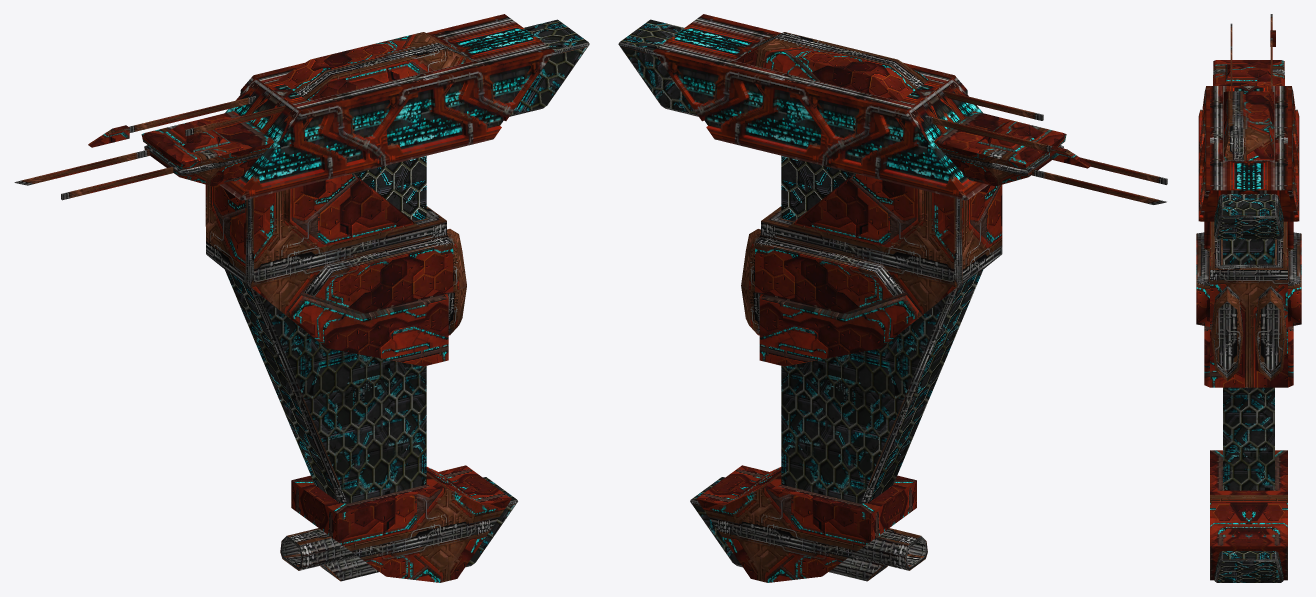
Rendered from pvc08a.obj.
3 views of the same model, side by side, from view 1: azimuth 30°, elevation 25°; view 2: azimuth 150°, elevation 25°; view 3: azimuth 270°, elevation 25° (orthographic). The views are drawn at different scales.
Visible parts, largest first — view 1: SHIP0.001, DETAIL0; view 2: SHIP0.001, DETAIL0; view 3: SHIP0.001, DETAIL0.
Part boxes in pixels (box(x1,y1,x2,y2)): SHIP0.001: box(14, 16, 589, 582); DETAIL0: box(240, 14, 554, 366); SHIP0.001: box(618, 16, 1167, 582); DETAIL0: box(653, 14, 967, 366); SHIP0.001: box(1202, 14, 1295, 582); DETAIL0: box(1196, 86, 1301, 387).
Size of the model in its own units: 4122 by 3760 by 810.
Materials: 5 (5 with a texture image).
